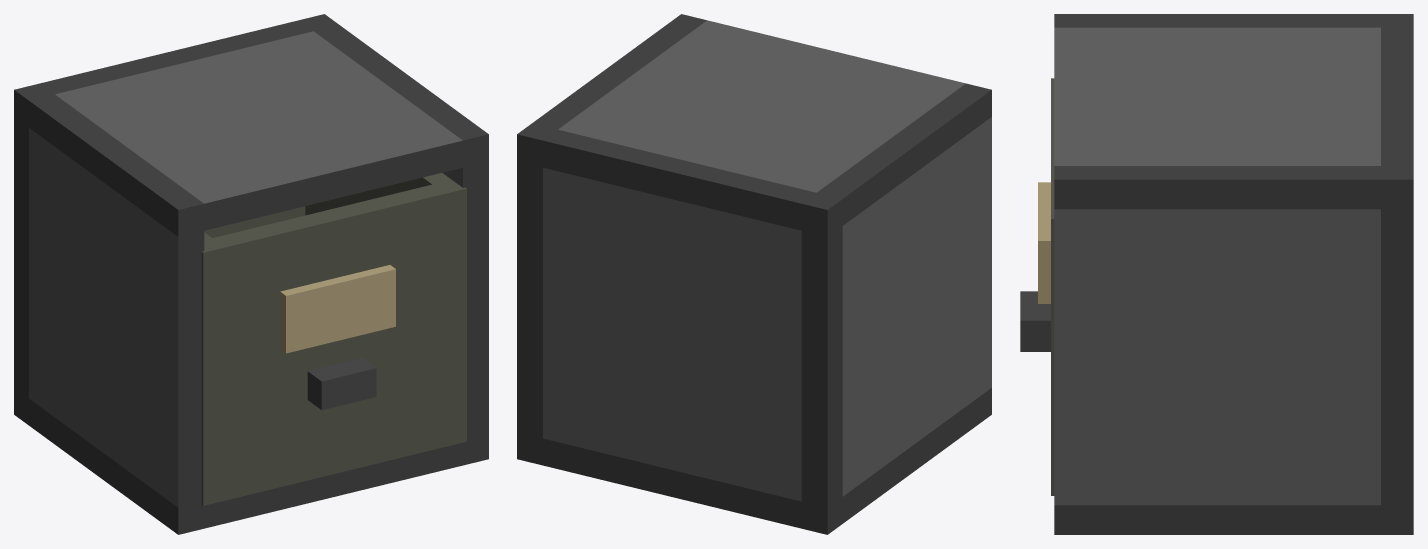
Rendered from OfficeCabinet.fbx.
3 renders of one model, left to right at view 1: azimuth 30°, elevation 25°; view 2: azimuth 150°, elevation 25°; view 3: azimuth 270°, elevation 25°, orthographic. The views are drawn at different scales.
Parts seen in each view (by area): view 1: Cabinet, Drawer; view 2: Cabinet; view 3: Cabinet, Drawer.
Boxes of the visible parts, box(x1,y1,x2,y2) form: Cabinet: box(14, 14, 488, 534); Drawer: box(201, 173, 466, 505); Cabinet: box(517, 14, 991, 534); Cabinet: box(1054, 14, 1413, 534); Drawer: box(1020, 78, 1054, 495).
Bounding box in the file's own units: 240 × 240 × 241.
